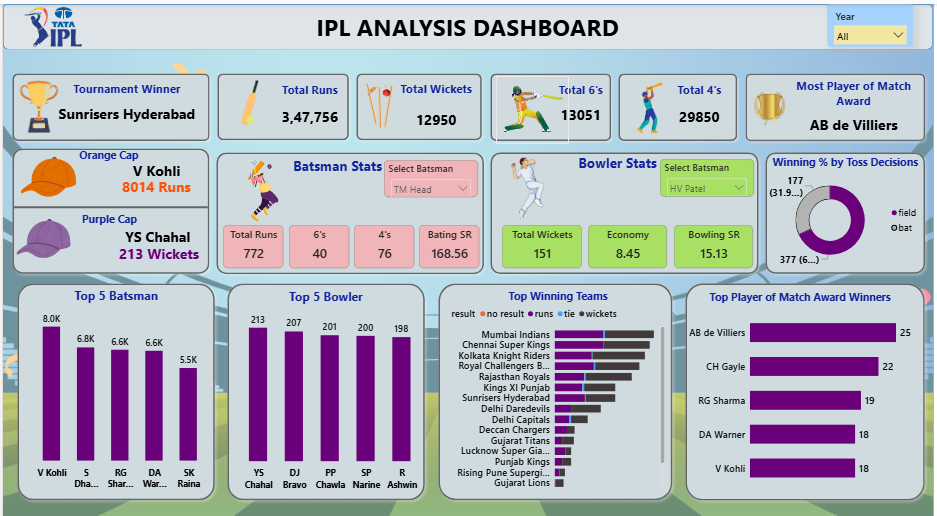

The page's visual inventory and layout, read from the dashboard file:
{"tool":"powerbi","page":{"name":"Page 1","canvas":[1850,1020],"ordinal":0},"visuals":[{"type":"shape","box":[1467.8,128.5,375.5,152.6],"z":0},{"type":"shape","box":[19.4,546.8,410.3,449.1],"z":1000},{"type":"shape","box":[10,279.1,409.6,267],"z":2000},{"type":"shape","box":[1507.9,287.1,335.3,259],"z":3000},{"type":"shape","box":[10,0,1840,90],"z":4000},{"type":"shape","box":[1215.8,128.6,254,152],"z":5000},{"type":"shape","box":[959.9,128.6,258,152],"z":6000},{"type":"shape","box":[694.9,130,267,150.6],"z":7000},{"type":"shape","box":[10,128.6,410,152],"z":8000},{"type":"shape","box":[417.9,130,279.1,150.6],"z":9000},{"type":"slicer","fields":{"Values":["Date_Table.Year"]},"box":[1640,0,172,86],"z":10000},{"type":"card","title":"Tournament Winner","fields":{"Values":["matches.TournamentWinner"]},"box":[88,154,318,100],"z":11000},{"type":"card","title":"Total Wickets","fields":{"Values":["Sum(deliveries.is_wicket)"]},"box":[775.8,154,172,126],"z":12000},{"type":"card","title":"Total Runs","fields":{"Values":["Sum(deliveries.total_runs)"]},"box":[530.1,154.6,162.6,108.4],"z":13000},{"type":"card","title":"Total 6''s","fields":{"Values":["CountNonNull(deliveries.batsman_runs)"]},"box":[1082.2,154.6,134.5,100.4],"z":14000},{"type":"card","title":"Total 6''s","fields":{"Values":["CountNonNull(deliveries.batsman_runs)"]},"box":[1310.8,155.7,148.6,108.4],"z":15000},{"type":"card","title":"Most Player of Match Award","fields":{"Values":["Min(matches.player_of_match)"]},"box":[1554.1,146.6,277.1,126.5],"z":16000},{"type":"shape","box":[22.1,373.5,385.5,60.2],"z":17000},{"type":"textbox","box":[20.1,281.1,381.5,68.3],"z":18000},{"type":"textbox","box":[22.1,407.6,379.5,56.2],"z":19000},{"type":"card","fields":{"Values":["Min(deliveries.batter)"]},"box":[210.2,309.1,189.4,48.6],"z":20000},{"type":"card","fields":{"Values":["deliveries.Orange  Cap Holder Runs"]},"box":[210.3,338.1,188.7,51.5],"z":21000},{"type":"card","fields":{"Values":["Min(deliveries.bowler)"]},"box":[211.3,439.6,194.2,46.1],"z":22000},{"type":"card","fields":{"Values":["deliveries.Purple Cap holder Wickets"]},"box":[200.8,463.8,218.9,68.3],"z":23000},{"type":"shape","box":[415.4,286.5,550,260],"z":24000},{"type":"shape","box":[961.1,286.5,551.1,259.8],"z":25000},{"type":"slicer","title":"Select Batsman","fields":{"Values":["deliveries.batter"]},"box":[757,311.2,186.7,74.3],"z":26000},{"type":"card","title":"Total Runs","fields":{"Values":["Sum(deliveries.batsman_runs)"]},"box":[437.7,439.7,120.5,86.3],"z":27000},{"type":"card","title":"6''s","fields":{"Values":["CountNonNull(deliveries.batsman_runs)"]},"box":[568,440.3,120,85.7],"z":28000},{"type":"card","title":"4''s","fields":{"Values":["CountNonNull(deliveries.batsman_runs)"]},"box":[697.8,440.3,120,85.7],"z":29000},{"type":"card","title":"Total Runs","fields":{"Values":["deliveries.Batsman strike Rate"]},"box":[827.6,440.3,120,85.7],"z":30000},{"type":"card","title":"Total Wickets","fields":{"Values":["Sum(deliveries.is_wicket)"]},"box":[992.9,440.4,158.6,85.7],"z":31000},{"type":"slicer","title":"Select Batsman","fields":{"Values":["deliveries.bowler"]},"box":[1306.2,308.3,186.9,75.3],"z":32000},{"type":"card","title":"Strike Rate","fields":{"Values":["deliveries.Bowler Strike Rate"]},"box":[1335.7,440.4,157.1,85.7],"z":33000},{"type":"card","title":"Economy","fields":{"Values":["deliveries.Bowler Economy"]},"box":[1164.3,440.4,157.1,85.7],"z":34000},{"type":"actionButton","box":[0,0,100,40],"z":35000},{"type":"textbox","box":[1086.3,293.1,273.1,52.2],"z":36000},{"type":"donutChart","title":"Winning % by Toss Decisions","fields":{"Y":["CountNonNull(matches.winner)"],"Category":["matches.toss_decision"]},"box":[1520,299.2,311.2,234.9],"z":37000},{"type":"columnChart","title":"Top 5 Batsman","fields":{"Category":["deliveries.batter"],"Y":["Sum(deliveries.batsman_runs)"]},"box":[29.1,563.3,390.9,410.3],"z":38000},{"type":"shape","box":[438.4,546.8,410.3,449.1],"z":39000},{"type":"columnChart","title":"Top 5 Bowler","fields":{"Category":["deliveries.bowler"],"Y":["Sum(deliveries.is_wicket)"]},"box":[437.7,564.2,409.6,409.6],"z":40000},{"type":"shape","box":[857.4,546.8,483.1,449.1],"z":41000},{"type":"barChart","title":"Top Winning Teams","fields":{"Category":["matches.winner"],"Y":["CountNonNull(matches.winner)"],"Series":["matches.result"]},"box":[887.5,564.2,433.7,409.6],"z":42000},{"type":"shape","box":[1349.3,546.1,493.9,449.8],"z":43000},{"type":"barChart","title":"Top Player of Match Award Winners","fields":{"Category":["matches.player_of_match"],"Y":["CountNonNull(matches.player_of_match)"]},"box":[1359.3,566.2,453.8,409.6],"z":44000},{"type":"textbox","box":[530.1,299.2,273.1,52.2],"z":45000},{"type":"image","box":[30.1,287.1,124.5,116.5],"z":46000},{"type":"image","box":[20.1,403.6,124.5,126.5],"z":47000},{"type":"image","box":[10,140.6,124.5,126.5],"z":48000},{"type":"image","box":[429.7,128.5,122.5,134.5],"z":49000},{"type":"image","box":[698.7,142.6,100.4,122.5],"z":50000},{"type":"image","box":[977.8,301.2,128.5,132.5],"z":51000},{"type":"image","box":[437.7,301.2,152.6,142.6],"z":52000},{"type":"image","box":[1228.4,143.6,118.5,126.5],"z":53000},{"type":"image","box":[979.8,142.5,146.6,136.5],"z":54000},{"type":"image","box":[1479.8,158.6,94.4,100.4],"z":55000},{"type":"image","box":[38.1,0,124.5,90.4],"z":56000}]}

Visuals, with their boxes in screenshot pixels (x1, y1, x2, y2), scaled from the page's 1850x1020 canvas onto the 937x516 screenshot:
shape: [743, 65, 934, 142]
shape: [10, 277, 218, 504]
shape: [5, 141, 213, 276]
shape: [764, 145, 934, 276]
shape: [5, 0, 936, 46]
shape: [616, 65, 744, 142]
shape: [486, 65, 617, 142]
shape: [352, 66, 487, 142]
shape: [5, 65, 213, 142]
shape: [212, 66, 353, 142]
slicer - Date_Table.Year: [831, 0, 918, 44]
"Tournament Winner" card: [45, 78, 206, 128]
"Total Wickets" card: [393, 78, 480, 142]
"Total Runs" card: [268, 78, 351, 133]
"Total 6''s" card: [548, 78, 616, 129]
"Total 6''s" card: [664, 79, 739, 134]
"Most Player of Match Award" card: [787, 74, 927, 138]
shape: [11, 189, 206, 219]
textbox: [10, 142, 203, 177]
textbox: [11, 206, 203, 235]
card - Min(deliveries.batter): [106, 156, 202, 181]
card - deliveries.Orange  Cap Holder Runs: [107, 171, 202, 197]
card - Min(deliveries.bowler): [107, 222, 205, 246]
card - deliveries.Purple Cap holder Wickets: [102, 235, 213, 269]
shape: [210, 145, 489, 276]
shape: [487, 145, 766, 276]
"Select Batsman" slicer: [383, 157, 478, 195]
"Total Runs" card: [222, 222, 283, 266]
"6''s" card: [288, 223, 348, 266]
"4''s" card: [353, 223, 414, 266]
"Total Runs" card: [419, 223, 480, 266]
"Total Wickets" card: [503, 223, 583, 266]
"Select Batsman" slicer: [662, 156, 756, 194]
"Strike Rate" card: [677, 223, 756, 266]
"Economy" card: [590, 223, 669, 266]
actionButton: [0, 0, 51, 20]
textbox: [550, 148, 689, 175]
"Winning % by Toss Decisions" donutChart: [770, 151, 927, 270]
"Top 5 Batsman" columnChart: [15, 285, 213, 493]
shape: [222, 277, 430, 504]
"Top 5 Bowler" columnChart: [222, 285, 429, 493]
shape: [434, 277, 679, 504]
"Top Winning Teams" barChart: [450, 285, 669, 493]
shape: [683, 276, 934, 504]
"Top Player of Match Award Winners" barChart: [688, 286, 918, 494]
textbox: [268, 151, 407, 178]
image: [15, 145, 78, 204]
image: [10, 204, 73, 268]
image: [5, 71, 68, 135]
image: [218, 65, 280, 133]
image: [354, 72, 405, 134]
image: [495, 152, 560, 219]
image: [222, 152, 299, 225]
image: [622, 73, 682, 137]
image: [496, 72, 571, 141]
image: [749, 80, 797, 131]
image: [19, 0, 82, 46]
